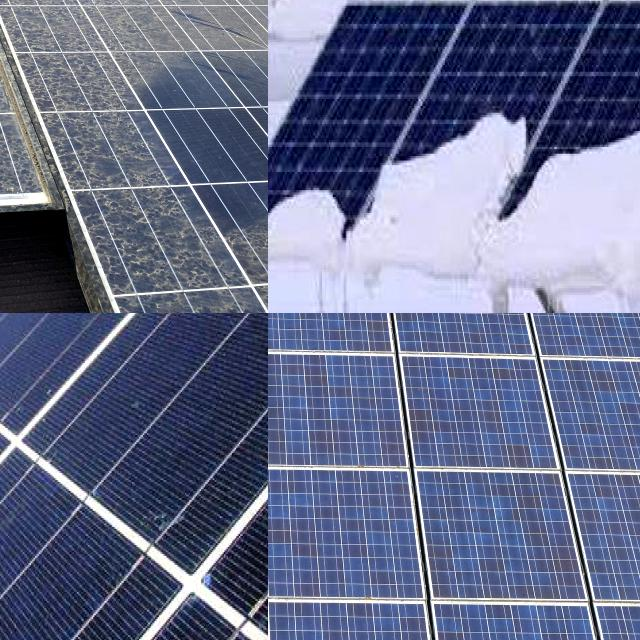crack: (0, 313, 268, 640), (397, 466, 616, 612), (382, 352, 578, 490), (268, 465, 433, 597), (268, 349, 428, 483), (535, 358, 640, 474), (268, 462, 338, 616), (268, 593, 468, 640), (423, 599, 626, 640)
dust: (0, 76, 120, 192), (0, 0, 136, 82), (0, 0, 145, 74), (129, 238, 265, 313), (72, 111, 142, 217), (0, 0, 124, 53), (0, 69, 55, 175), (162, 0, 267, 50), (0, 0, 89, 51), (154, 0, 240, 41), (0, 0, 53, 49), (0, 0, 36, 58)
panel: (501, 123, 576, 313), (574, 113, 640, 313), (436, 118, 502, 313), (377, 131, 434, 313), (274, 152, 375, 245), (268, 210, 314, 313), (490, 0, 604, 41), (393, 0, 476, 50), (308, 0, 381, 53), (388, 0, 484, 39), (316, 0, 394, 30), (268, 0, 332, 34), (268, 0, 309, 45), (606, 0, 640, 54), (268, 0, 324, 27), (268, 0, 313, 26), (268, 0, 296, 29)
